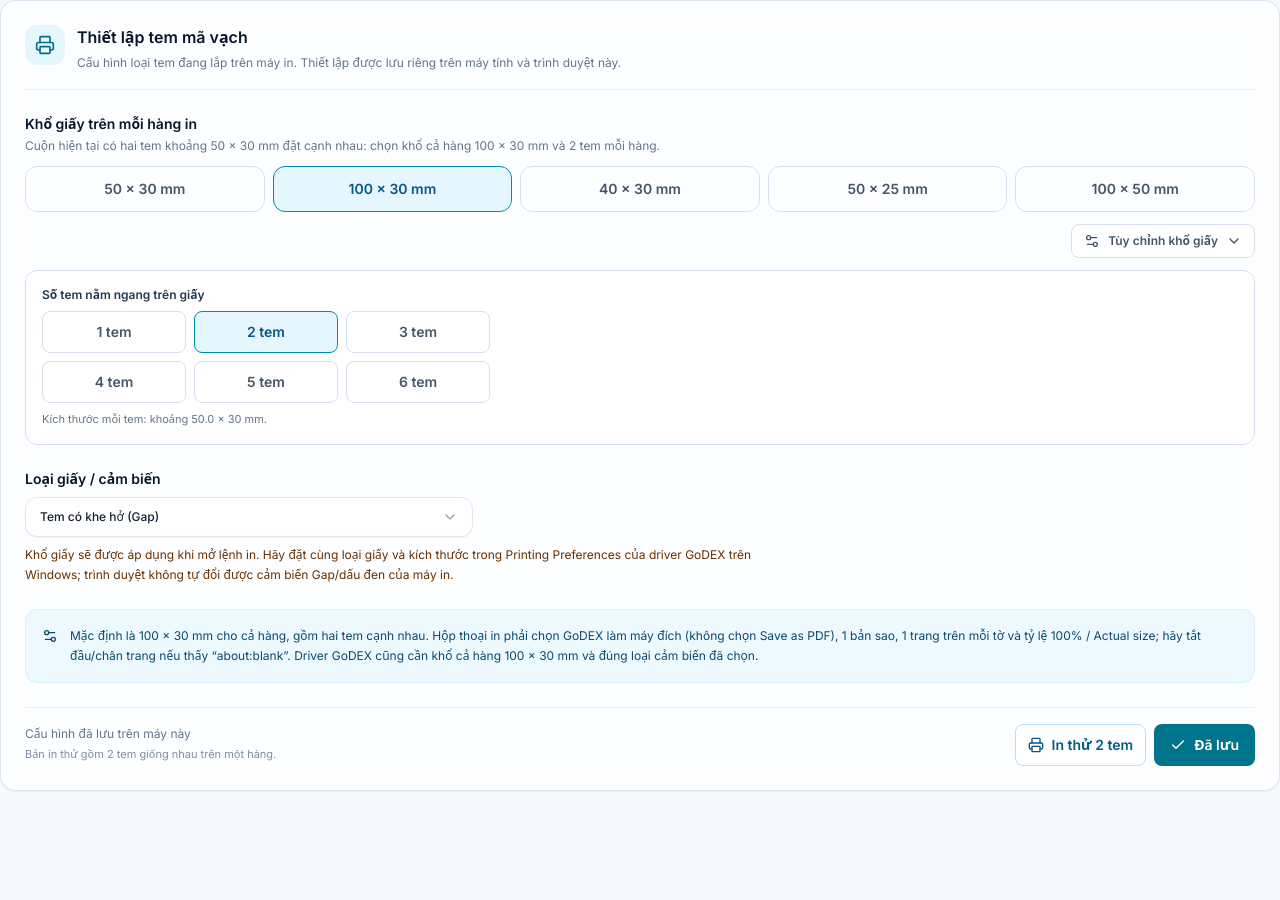
DeviceLabelPrintSettingsTab › keeps custom dimensions collapsed until requested
The width and height of the screenshot is (1280, 900).
Expected: the field labelled "Chiều ngang toàn cuộn giấy (mm)" is not shown
Click the button "Tùy chỉnh khổ giấy" at (1163,241), box [1071, 224, 1255, 258]
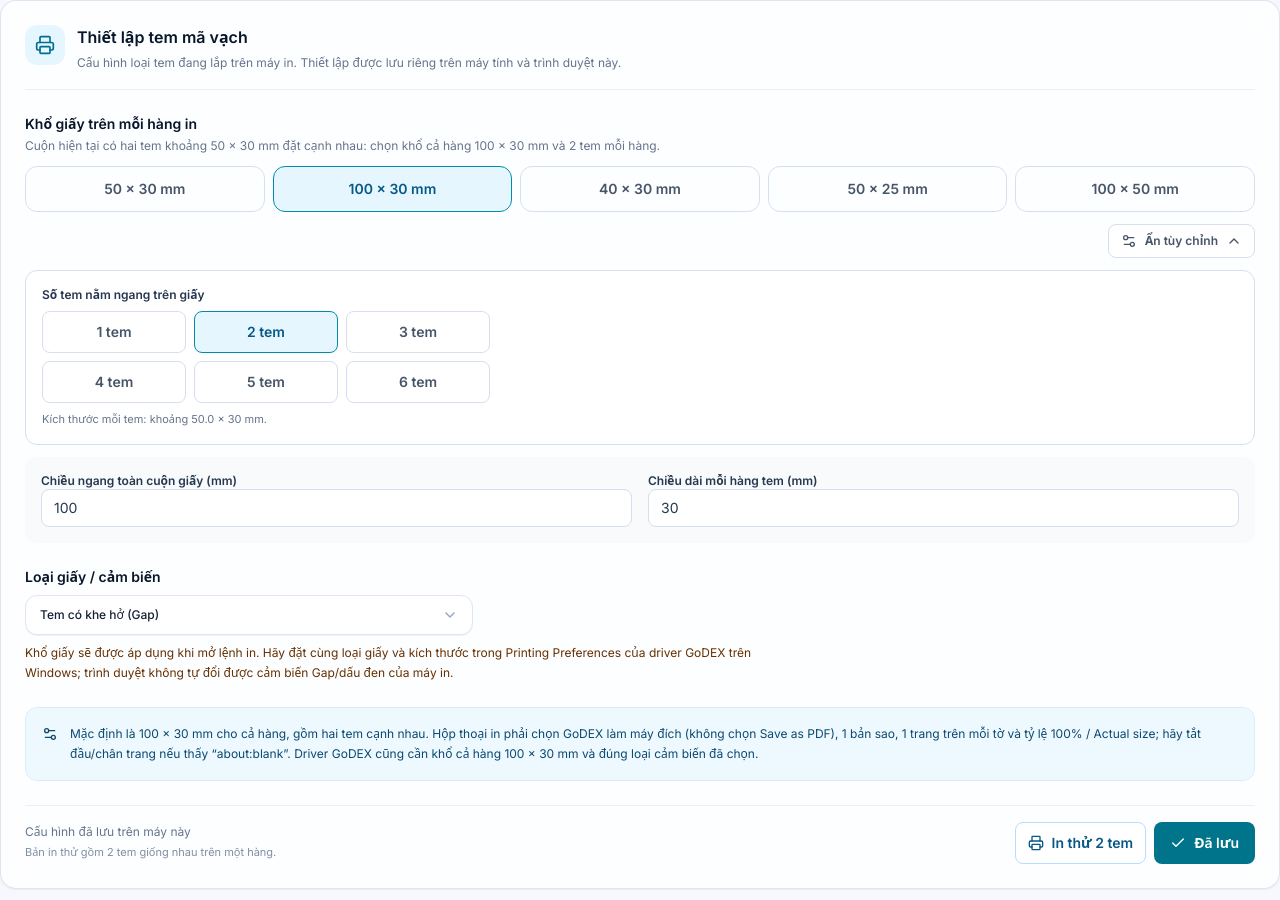
Now the number field labelled "Chiều ngang toàn cuộn giấy (mm)" is shown, box [41, 488, 632, 526]
Click the button "Ẩn tùy chỉnh" at (1182,241), box [1108, 224, 1255, 258]
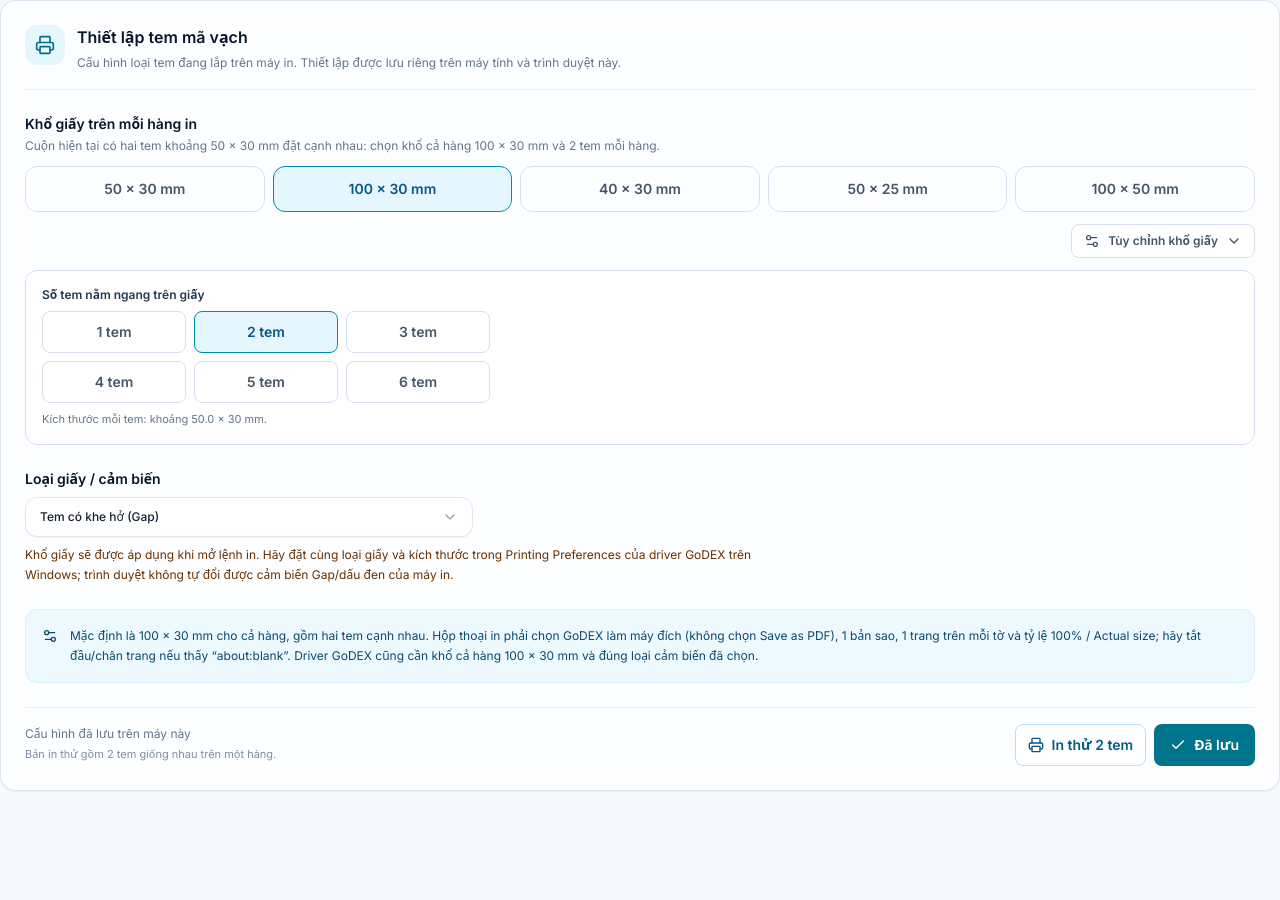
Now the text labelled "Chiều ngang toàn cuộn giấy (mm)" is gone
